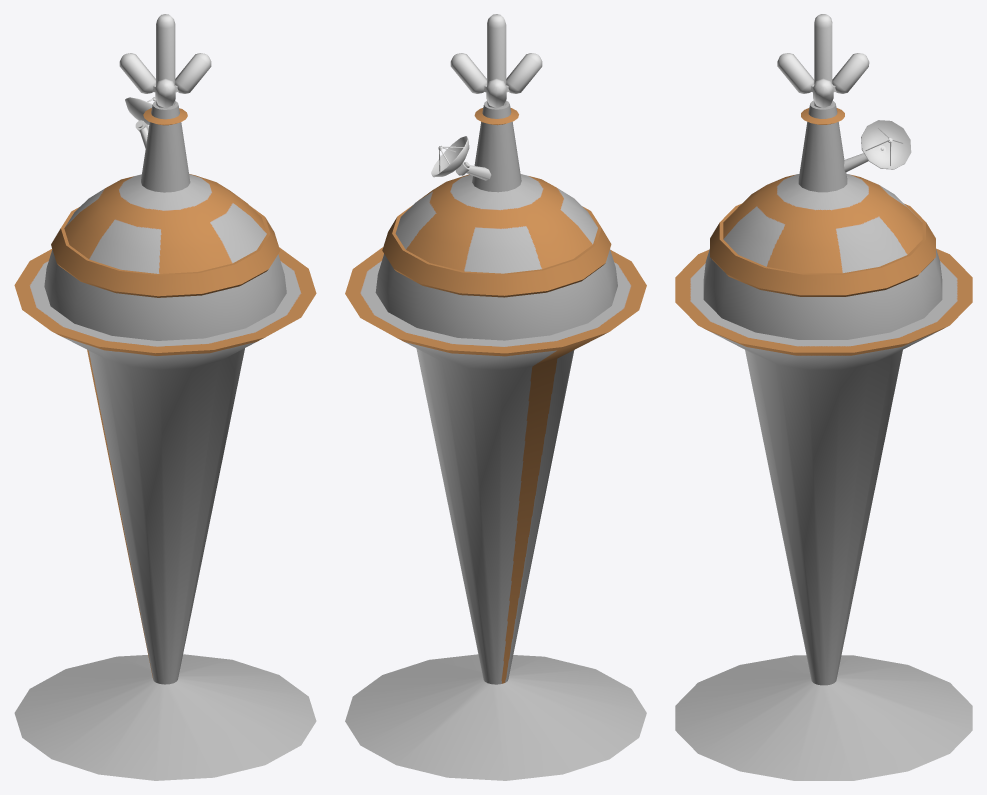
Rendered from outpost.fbx.
3 views of the same model, side by side, from view 1: azimuth 30°, elevation 25°; view 2: azimuth 150°, elevation 25°; view 3: azimuth 270°, elevation 25° (orthographic).
Parts seen in each view (by area): view 1: outpost, outpost building top, outpost satellite; view 2: outpost, outpost building top, outpost satellite; view 3: outpost, outpost building top, outpost satellite.
Boxes of the visible parts, x1,y1,x2,y2 form: outpost: (14,101,316,780); outpost building top: (119,14,211,108); outpost satellite: (125,97,155,148); outpost: (345,101,646,780); outpost building top: (450,14,542,108); outpost satellite: (431,136,491,180); outpost: (675,100,972,780); outpost building top: (777,14,869,108); outpost satellite: (844,120,911,172).
Size of the model in its own units: 157 by 408 by 157.
